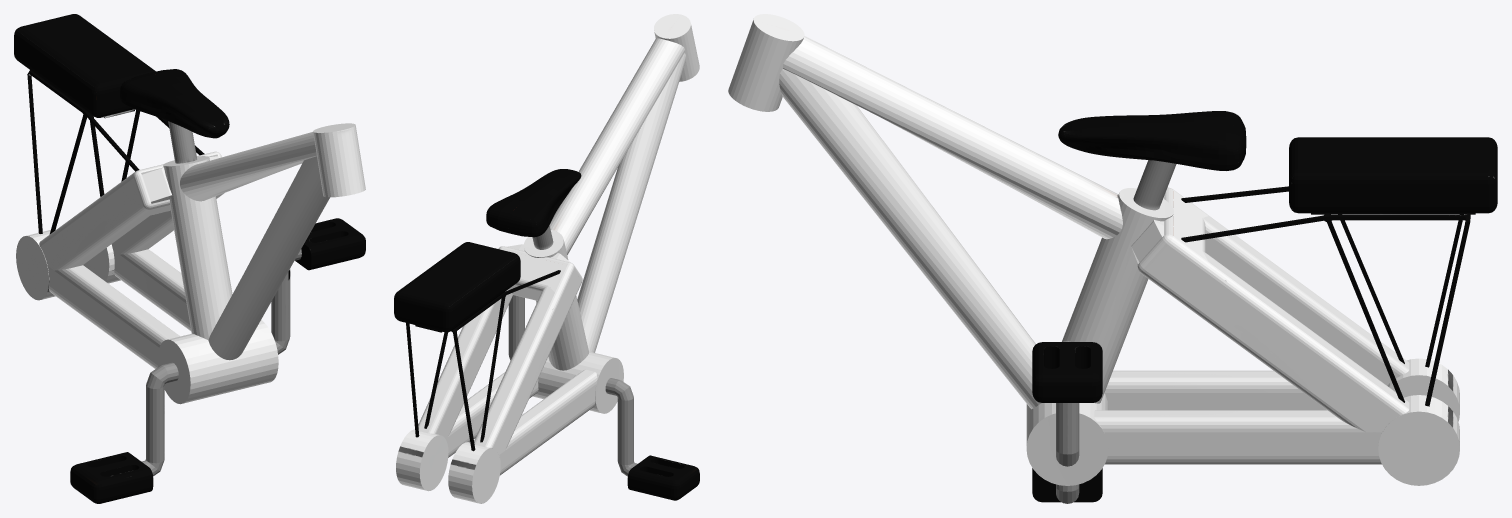
The model's file is Body.fbx.
3 views of the same model, side by side, from view 1: azimuth 30°, elevation 25°; view 2: azimuth 150°, elevation 25°; view 3: azimuth 270°, elevation 25° (orthographic). The views are drawn at different scales.
Visible parts, largest first — view 1: frame, backSeat, Seat, Cranck2, pedal, seatFrame, pedal.001; view 2: frame, backSeat, Seat, seatFrame, Cranck2, pedal; view 3: frame, backSeat, Seat, seatFrame, pedal.001, Cranck2, pedal.
Boxes of the visible parts, box(x1,y1,x2,y2) form: frame: box(16, 121, 365, 404); backSeat: box(14, 14, 155, 118); Seat: box(120, 69, 229, 138); Cranck2: box(141, 249, 301, 476); pedal: box(70, 452, 153, 503); seatFrame: box(27, 70, 204, 234); pedal.001: box(295, 218, 365, 270); frame: box(396, 14, 699, 503); backSeat: box(394, 242, 520, 332); Seat: box(486, 169, 581, 237); seatFrame: box(406, 270, 560, 451); Cranck2: box(508, 295, 637, 476); pedal: box(627, 455, 699, 500); frame: box(728, 14, 1459, 485); backSeat: box(1289, 137, 1497, 214); Seat: box(1058, 111, 1246, 170); seatFrame: box(1181, 186, 1470, 406); pedal.001: box(1032, 342, 1102, 402); Cranck2: box(1056, 340, 1079, 503); pedal: box(1032, 468, 1102, 502).
Size of the model in its own units: 5.02 by 7.49 by 9.85.
